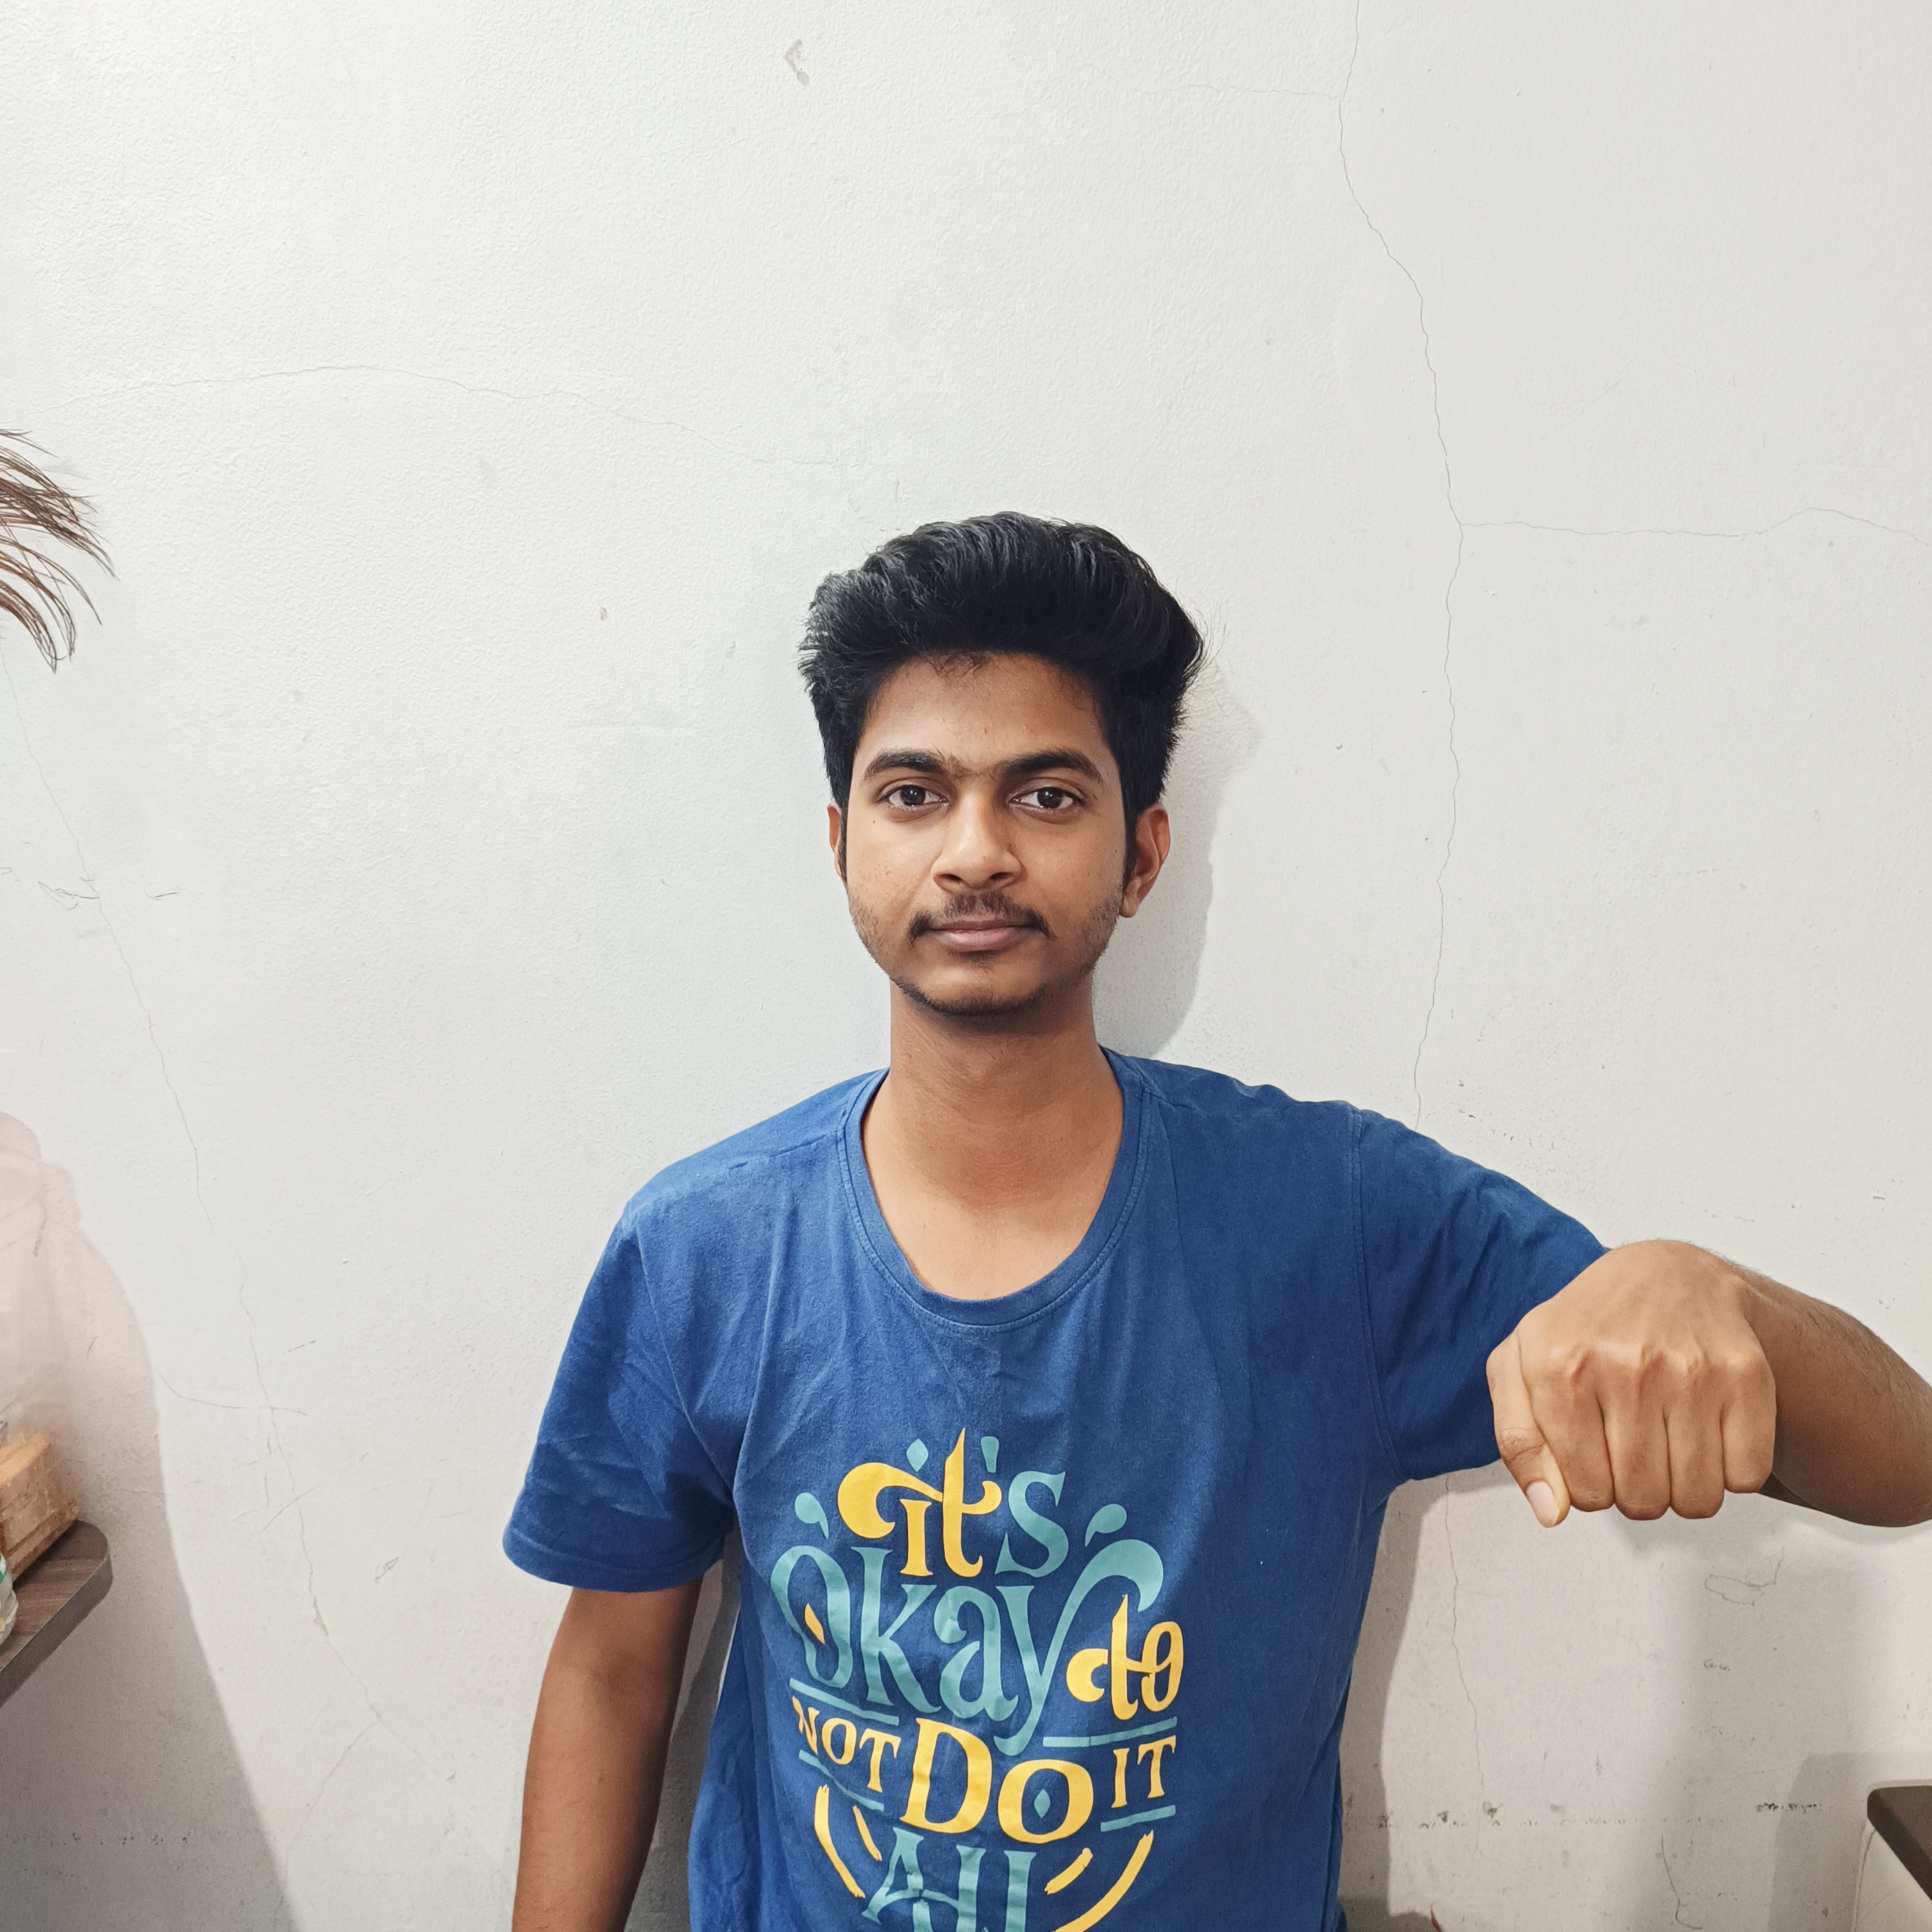Yes: (1453, 1205, 1813, 1580)
